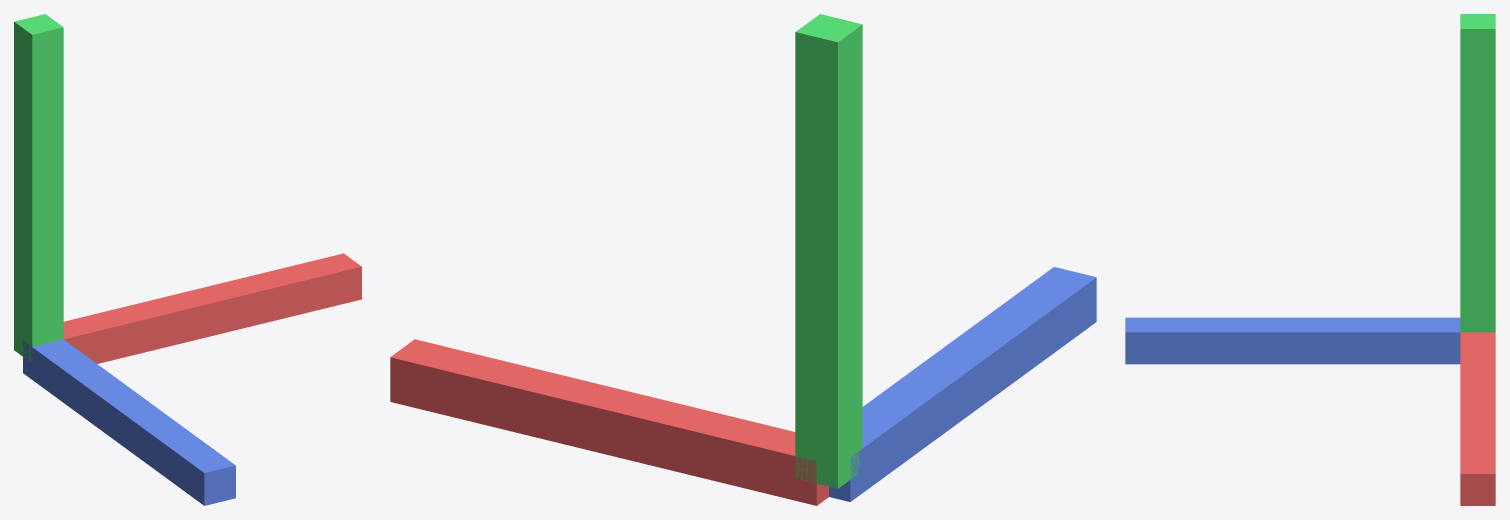
File: coordinates.gltf
3 views of the same model, side by side, from view 1: azimuth 30°, elevation 25°; view 2: azimuth 150°, elevation 25°; view 3: azimuth 270°, elevation 25° (orthographic). The views are drawn at different scales.
Parts seen in each view (by area): view 1: positive-Y, positive-X, positive-Z; view 2: positive-Y, positive-X, positive-Z; view 3: positive-Z, positive-Y, positive-X.
Part boxes in pixels (x1=…): positive-Y: x1=14, y1=14, x2=63, y2=362; positive-X: x1=63, y1=253, x2=361, y2=363; positive-Z: x1=23, y1=339, x2=235, y2=505; positive-Y: x1=795, y1=14, x2=862, y2=488; positive-X: x1=390, y1=339, x2=828, y2=505; positive-Z: x1=829, y1=267, x2=1096, y2=501; positive-Z: x1=1125, y1=317, x2=1460, y2=364; positive-Y: x1=1460, y1=14, x2=1495, y2=332; positive-X: x1=1460, y1=332, x2=1495, y2=505.
Bounding box in the file's own units: 1.05 × 1.05 × 1.05.
